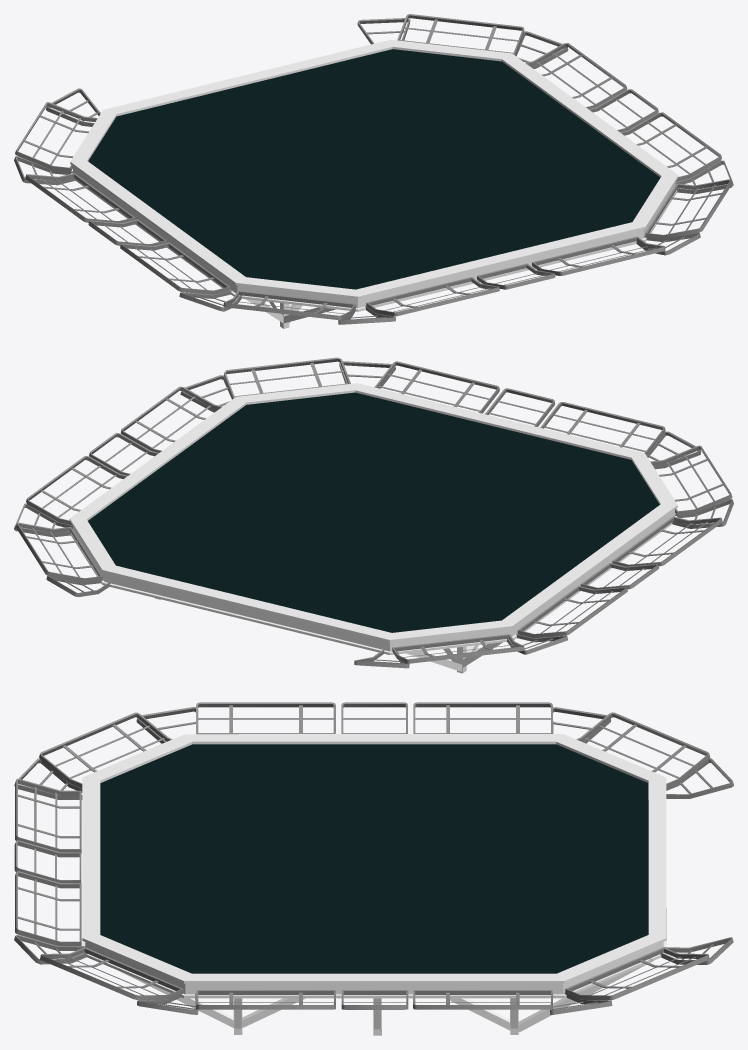
The model's file is SM_H_Building_Tide_PrisonMain_04j_ATLAS.fbx.
The picture shows the model from 3 angles, top to bottom: view 1: azimuth 30°, elevation 25°; view 2: azimuth 150°, elevation 25°; view 3: azimuth 270°, elevation 25°; orthographic projection. The views are drawn at different scales.
Parts seen in each view (by area): view 1: SM_H_Building_Tide_PrisonMain_04j_ATLAS; view 2: SM_H_Building_Tide_PrisonMain_04j_ATLAS; view 3: SM_H_Building_Tide_PrisonMain_04j_ATLAS.
Boxes of the visible parts, x1,y1,x2,y2 form: SM_H_Building_Tide_PrisonMain_04j_ATLAS: (14,14,733,328); SM_H_Building_Tide_PrisonMain_04j_ATLAS: (14,357,733,673); SM_H_Building_Tide_PrisonMain_04j_ATLAS: (14,702,733,1035).
Size of the model in its own units: 2995 by 2995 by 434.
